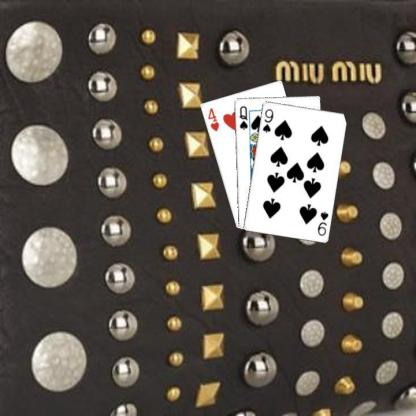4H: (205, 105, 220, 132)
9S: (315, 208, 329, 237), (260, 106, 274, 134)
QS: (236, 104, 248, 130)
